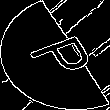P_NE: (15, 27, 95, 83)
